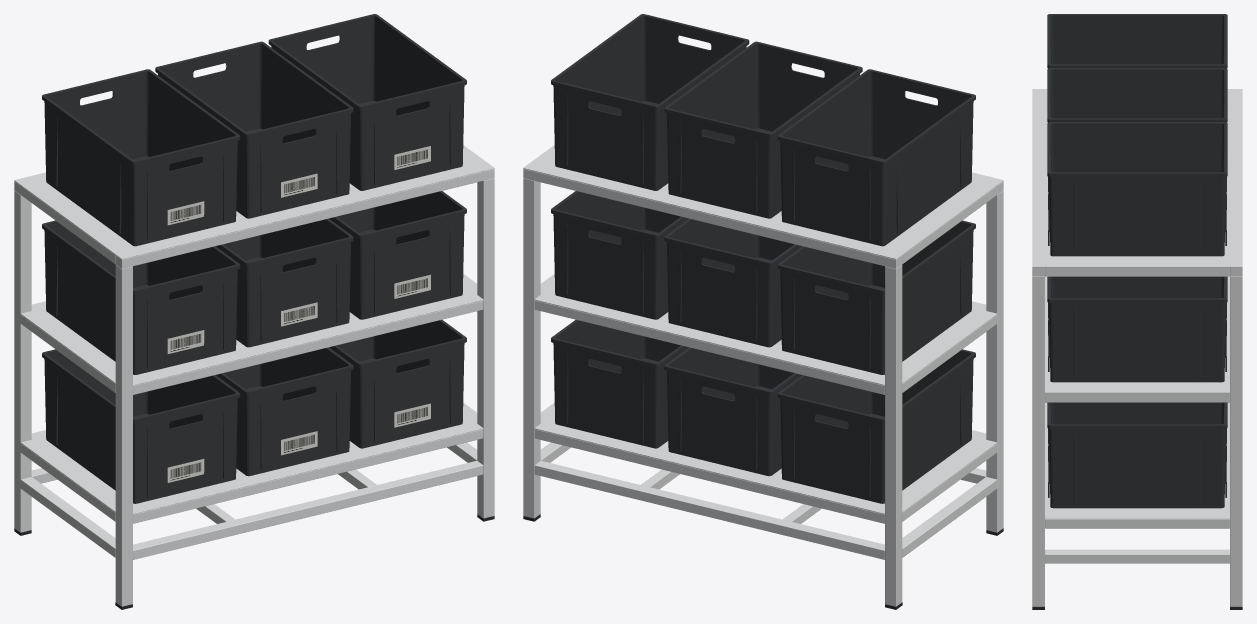
Rendered from shelf_loaded.glb.
3 renders of one model, left to right at view 1: azimuth 30°, elevation 25°; view 2: azimuth 150°, elevation 25°; view 3: azimuth 270°, elevation 25°, orthographic. The views are drawn at different scales.
Parts seen in each view (by area): view 1: Rack_FrameAndDecks, Bin_L03_C01, Bin_L03_C02, Bin_L03_C03, Bin_L01_C01, Bin_L02_C01, Bin_L02_C02, Bin_L01_C03, Bin_L01_C02, Bin_L02_C03; view 2: Rack_FrameAndDecks, Bin_L03_C01, Bin_L03_C02, Bin_L03_C03, Bin_L01_C01, Bin_L02_C01, Bin_L02_C02, Bin_L01_C03, Bin_L01_C02, Bin_L02_C03; view 3: Rack_FrameAndDecks, Bin_L03_C03, Bin_L02_C03, Bin_L01_C03, Bin_L03_C02, Bin_L03_C01.
Part boxes in pixels (x1,y1,x2,y2): Rack_FrameAndDecks: (14, 145, 494, 606); Bin_L03_C01: (42, 69, 240, 246); Bin_L03_C02: (155, 41, 353, 218); Bin_L03_C03: (268, 14, 466, 190); Bin_L01_C01: (42, 349, 240, 503); Bin_L02_C01: (42, 220, 240, 374); Bin_L02_C02: (216, 218, 353, 347); Bin_L01_C03: (329, 320, 466, 448); Bin_L01_C02: (216, 347, 353, 476); Bin_L02_C03: (329, 191, 466, 319); Rack_FrameAndDecks: (523, 145, 1003, 606); Bin_L03_C01: (777, 69, 975, 246); Bin_L03_C02: (664, 41, 862, 218); Bin_L03_C03: (551, 14, 749, 190); Bin_L01_C01: (777, 349, 975, 503); Bin_L02_C01: (777, 220, 975, 374); Bin_L02_C02: (664, 218, 801, 347); Bin_L01_C03: (551, 320, 688, 448); Bin_L01_C02: (664, 347, 801, 476); Bin_L02_C03: (551, 191, 688, 319); Rack_FrameAndDecks: (1032, 89, 1242, 606); Bin_L03_C03: (1047, 122, 1227, 256); Bin_L02_C03: (1047, 276, 1227, 382); Bin_L01_C03: (1047, 402, 1227, 508); Bin_L03_C02: (1047, 68, 1227, 191); Bin_L03_C01: (1047, 14, 1227, 68).
Size of the model in its own units: 1 by 1.12 by 0.5.
4 materials, 1 textured.
